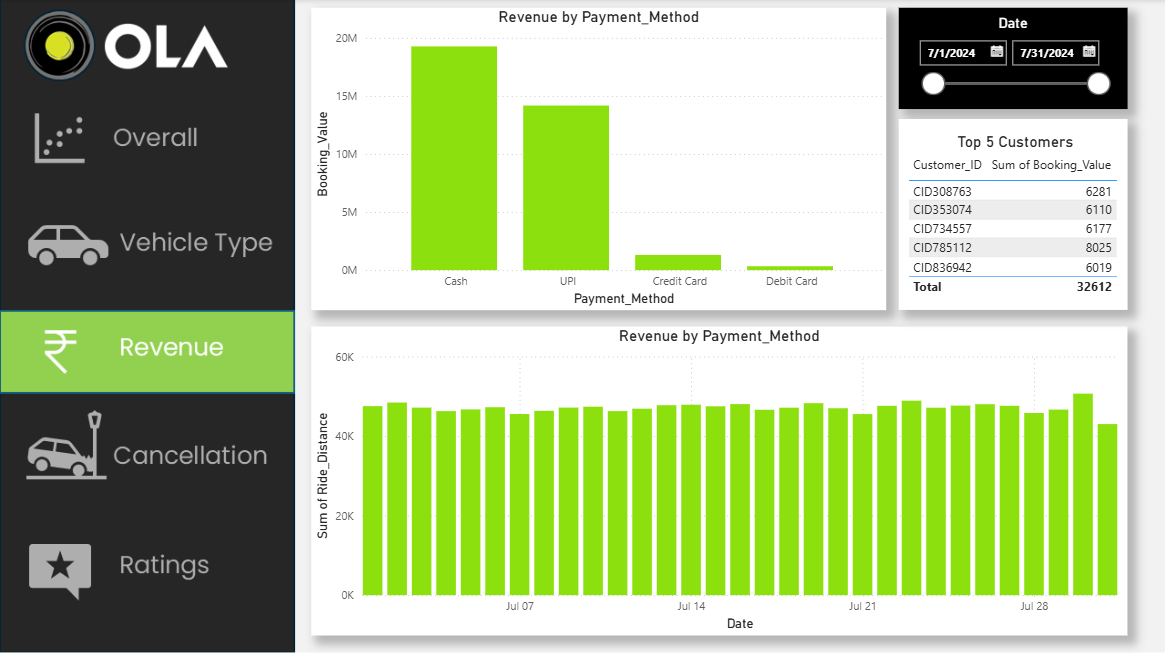

Layout of this report page (visuals, bound fields, positions):
{"tool":"powerbi","page":{"name":"Revenue","canvas":[1280,720],"ordinal":2},"visuals":[{"type":"actionButton","box":[0,223.2,324.5,90.5],"z":0},{"type":"actionButton","box":[1.2,341.4,324.5,88.1],"z":1000},{"type":"actionButton","box":[0,448.8,324.5,90.5],"z":2000},{"type":"actionButton","box":[0,577.9,324.5,90.5],"z":3000},{"type":"actionButton","box":[0,111,324.5,90.5],"z":4000},{"type":"clusteredColumnChart","title":"Revenue by Payment_Method","fields":{"Y":["Sum(July.Booking_Value)"],"Category":["July.Payment_Method"]},"box":[341.7,9.6,631.2,332.1],"z":4001},{"type":"clusteredColumnChart","title":"Revenue by Payment_Method","fields":{"Y":["Sum(July.Ride_Distance)"],"Category":["July.Date"]},"box":[341.7,359.5,896.1,338.9],"z":4002},{"type":"slicer","title":"Date","fields":{"Values":["July.Date"]},"box":[986.6,9.6,251.1,111.1],"z":4003},{"type":"tableEx","title":"Top 5 Customers","fields":{"Values":["July.Customer_ID","Sum(July.Booking_Value)"]},"box":[986.6,131.7,251.1,209.9],"z":4004}]}

Visuals, with their boxes in screenshot pixels (x1, y1, x2, y2), scaled from the page's 1280x720 canvas onto the 1165x654 screenshot:
actionButton: rect(0, 203, 295, 285)
actionButton: rect(1, 310, 296, 390)
actionButton: rect(0, 408, 295, 490)
actionButton: rect(0, 525, 295, 607)
actionButton: rect(0, 101, 295, 183)
"Revenue by Payment_Method" clusteredColumnChart: rect(311, 9, 885, 310)
"Revenue by Payment_Method" clusteredColumnChart: rect(311, 327, 1127, 634)
"Date" slicer: rect(898, 9, 1127, 110)
"Top 5 Customers" tableEx: rect(898, 120, 1127, 310)
